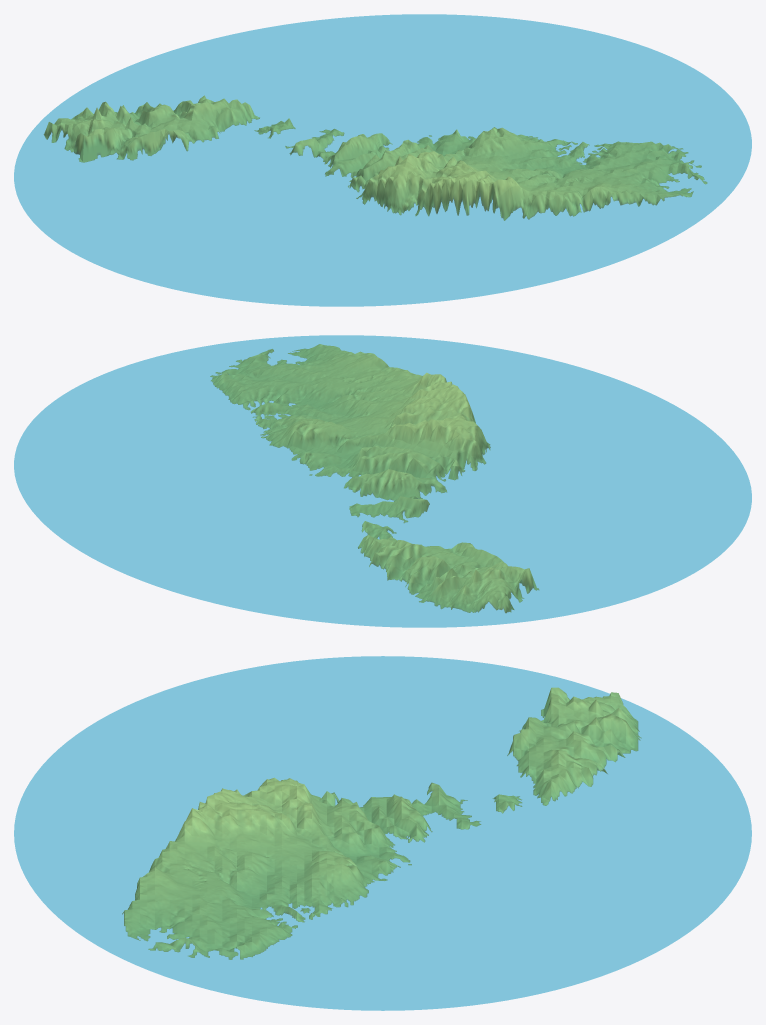
Rendered from MLT-terrain.glb.
3 renders of one model, top to bottom at view 1: azimuth 30°, elevation 25°; view 2: azimuth 150°, elevation 25°; view 3: azimuth 270°, elevation 25°, orthographic. The views are drawn at different scales.
Parts seen in each view (by area): view 1: Relevo com hidrografia; view 2: Relevo com hidrografia; view 3: Relevo com hidrografia.
Part boxes in pixels (left/top/right/bottom): Relevo com hidrografia: left=14, top=14, right=751, bottom=306; Relevo com hidrografia: left=14, top=335, right=751, bottom=627; Relevo com hidrografia: left=14, top=656, right=751, bottom=1010.
Size of the model in its own units: 2.26 by 0.1243 by 1.98.
Materials: 2 (1 with a texture image).
